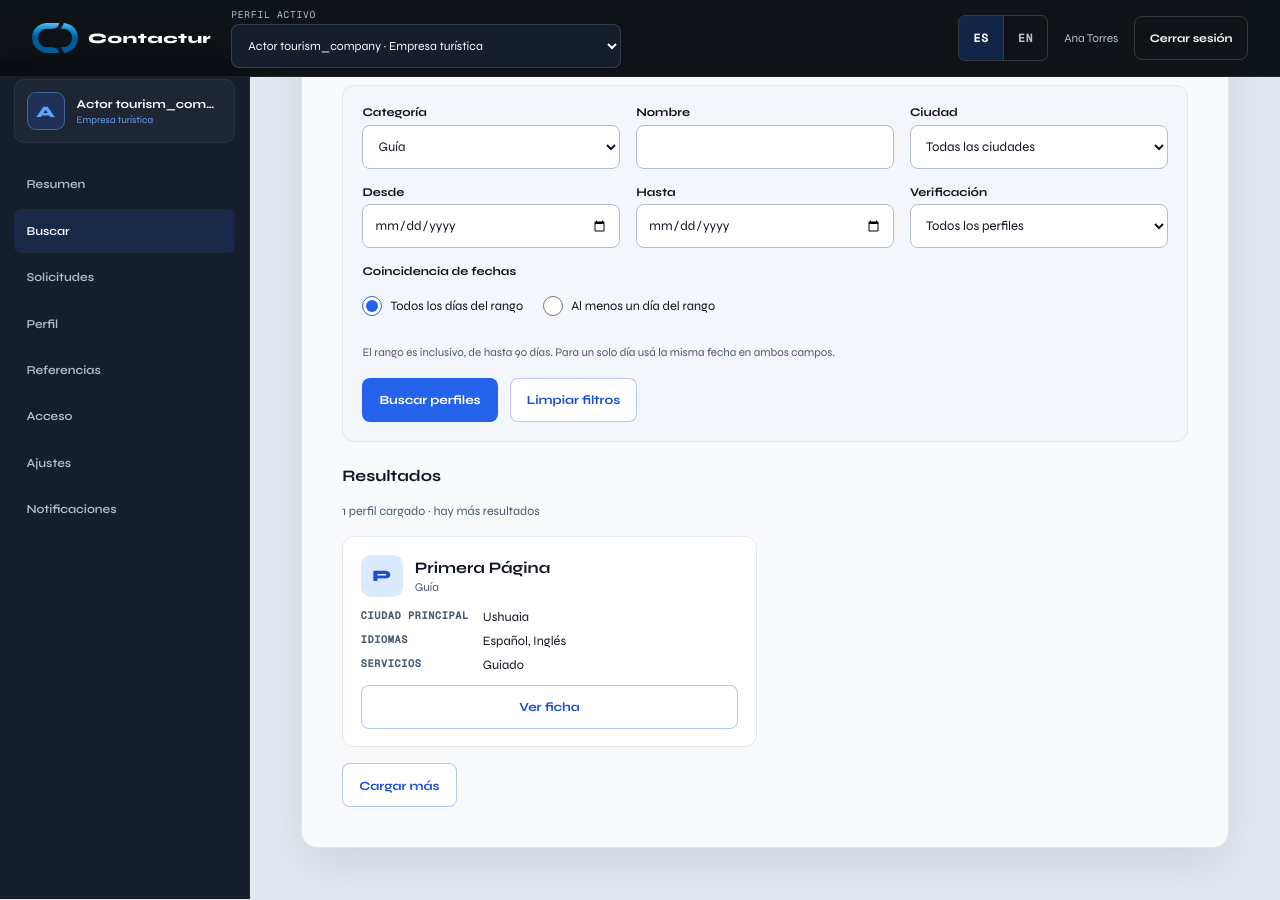
Test: T15 — estados de la búsqueda › 409 search_cursor_mismatch vuelve a la primera página con los mismos filtros
(page scrolled)
Expected: the element "Primera Página" is shown, [342, 536, 757, 748]
Click the button "Cargar más" at (399, 785), box [342, 763, 457, 807]
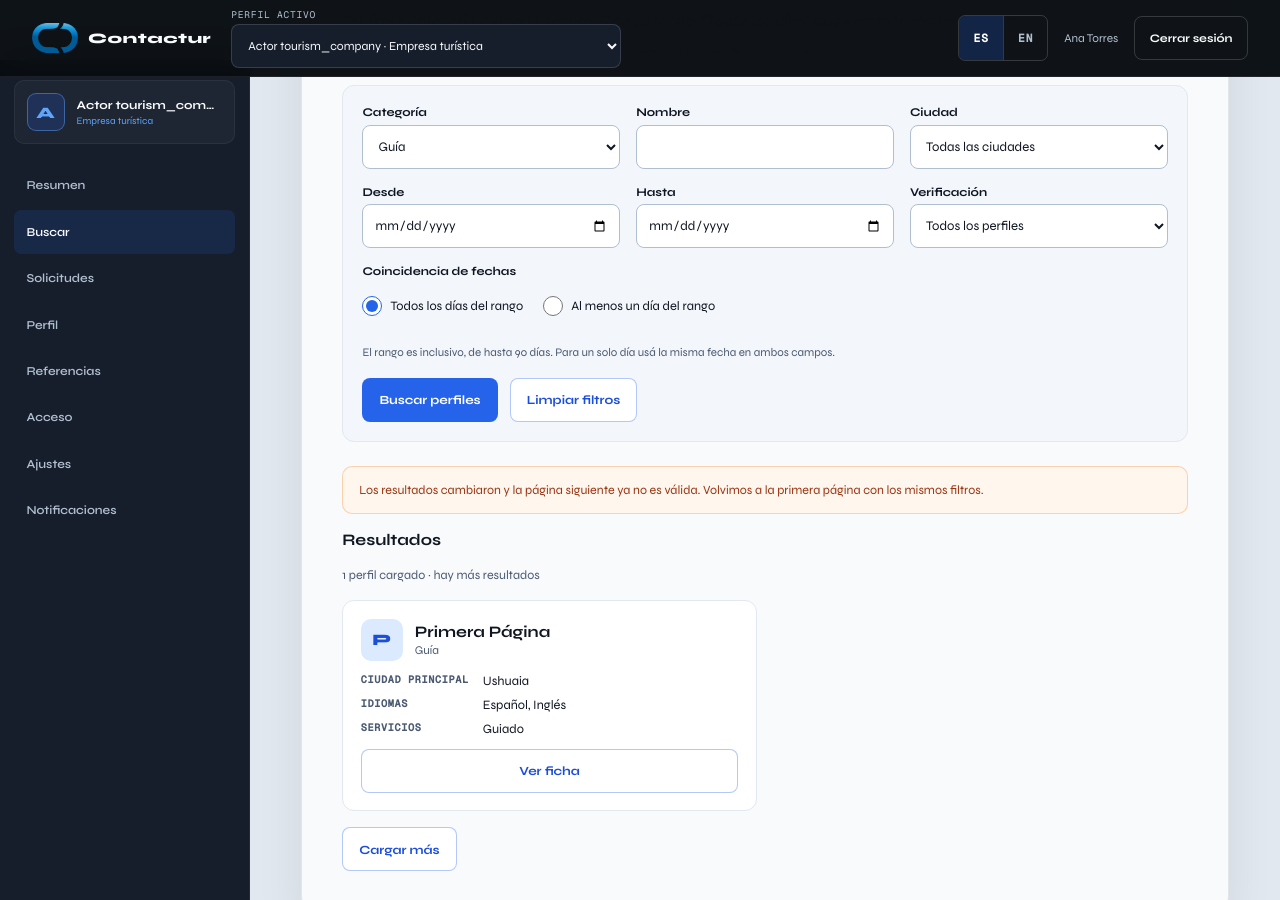
Expected: the element "Primera Página" is shown, [342, 600, 757, 811]
Result: the text "Volvimos a la primera página con los mismos filtros" is shown at [359, 482, 984, 496]
